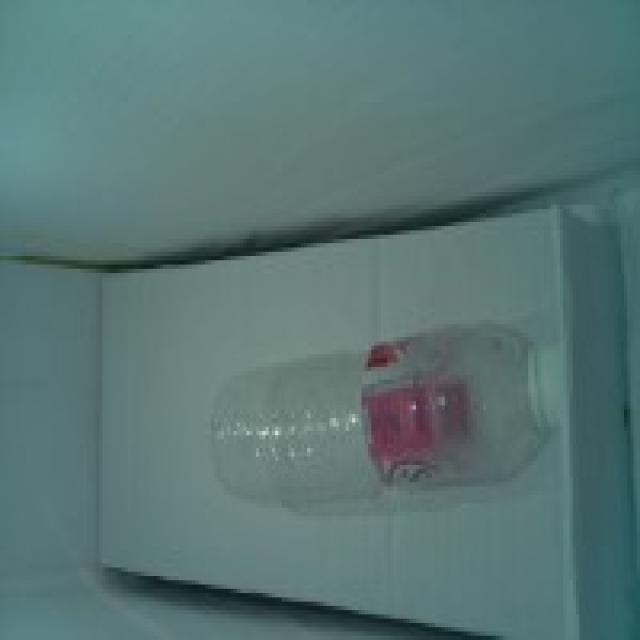Anorganik: (202, 320, 570, 508)
